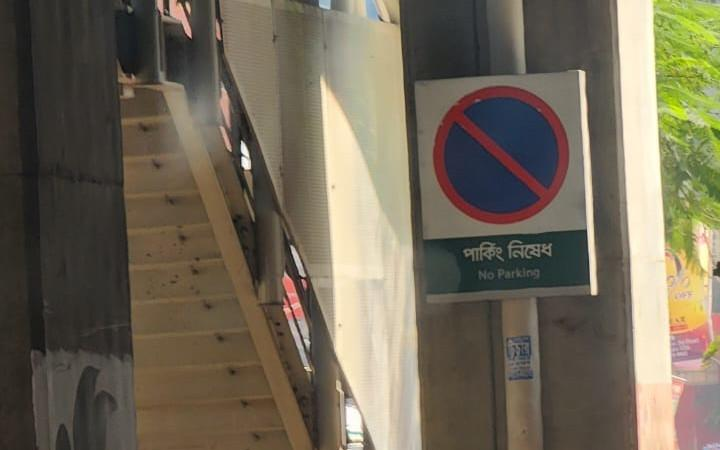No Parking: (415, 67, 598, 303)
